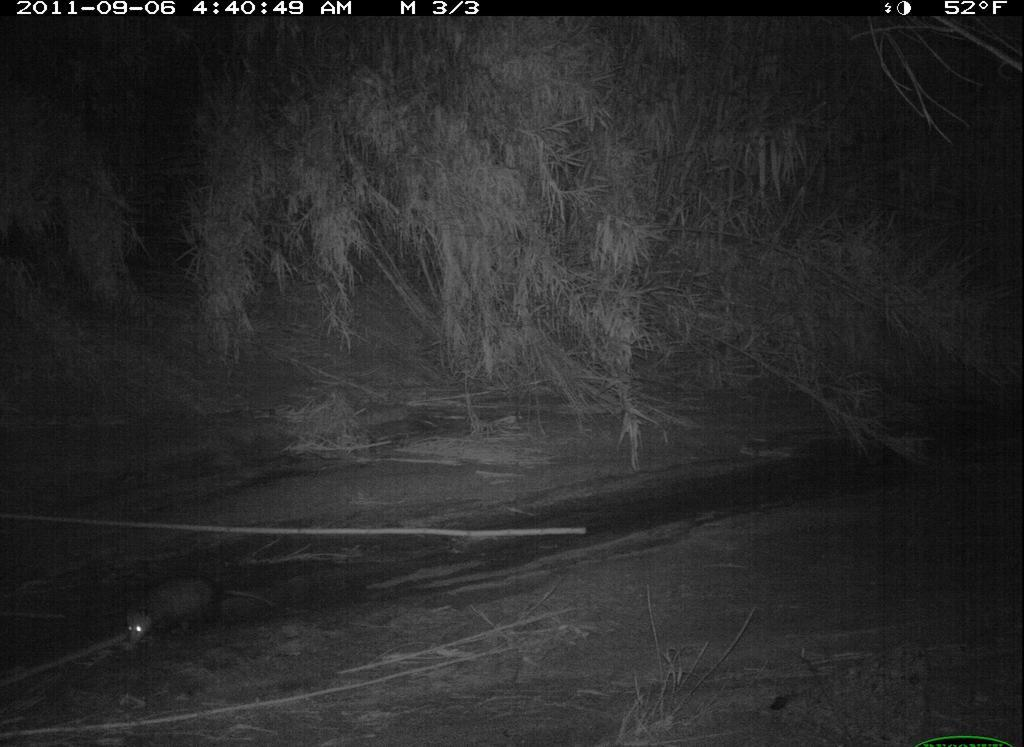opossum: (125, 571, 282, 661)
